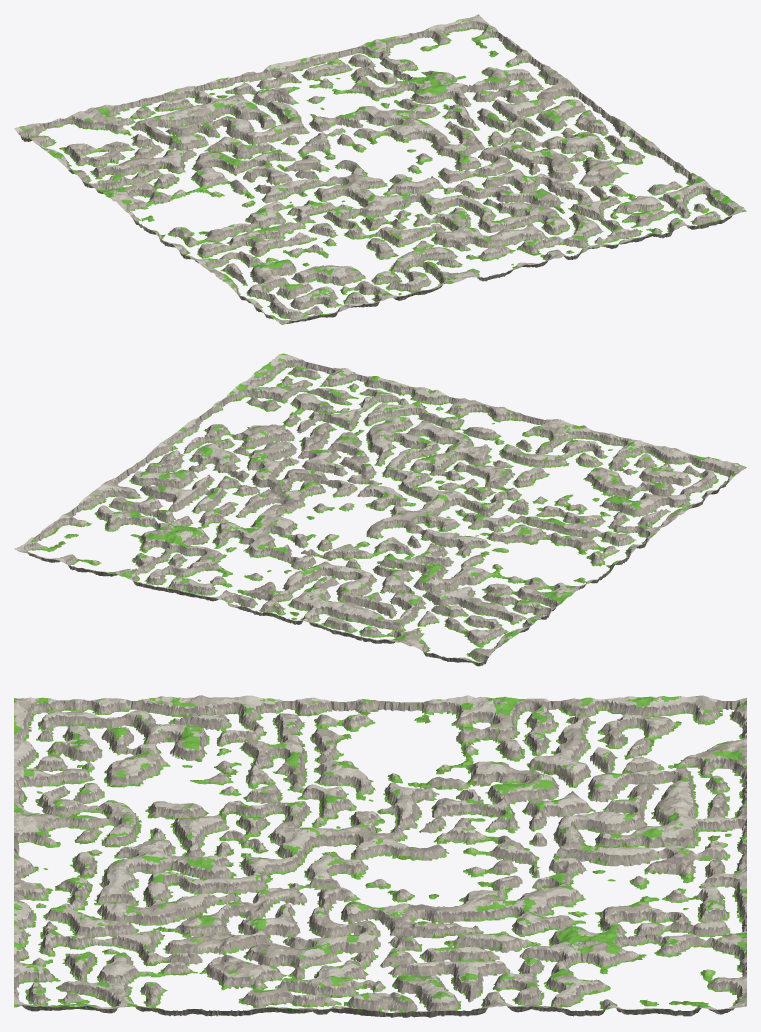
The model's file is Dungeon-2C-Relief.fbx.
3 views of the same model, one above another, from view 1: azimuth 30°, elevation 25°; view 2: azimuth 150°, elevation 25°; view 3: azimuth 270°, elevation 25° (orthographic). The views are drawn at different scales.
Parts seen in each view (by area): view 1: Dungeon-2C-Relief-c27, Dungeon-2C-Relief-c75, Dungeon-2C-Relief-c31, Dungeon-2C-Relief-c41, Dungeon-2C-Relief-c74, Dungeon-2C-Relief-c37, Dungeon-2C-Relief-c47, Dungeon-2C-Relief-c63, Dungeon-2C-Relief-c45, Dungeon-2C-Relief-c26, Dungeon-2C-Relief-c17, Dungeon-2C-Relief-c62 (+50 smaller); view 2: Dungeon-2C-Relief-c10, Dungeon-2C-Relief-c20, Dungeon-2C-Relief-c75, Dungeon-2C-Relief-c63, Dungeon-2C-Relief-c70, Dungeon-2C-Relief-c60, Dungeon-2C-Relief-c16, Dungeon-2C-Relief-c00, Dungeon-2C-Relief-c41, Dungeon-2C-Relief-c33, Dungeon-2C-Relief-c26, Dungeon-2C-Relief-c50 (+49 smaller); view 3: Dungeon-2C-Relief-c36, Dungeon-2C-Relief-c01, Dungeon-2C-Relief-c02, Dungeon-2C-Relief-c05, Dungeon-2C-Relief-c51, Dungeon-2C-Relief-c06, Dungeon-2C-Relief-c73, Dungeon-2C-Relief-c74, Dungeon-2C-Relief-c42, Dungeon-2C-Relief-c00, Dungeon-2C-Relief-c41, Dungeon-2C-Relief-c37 (+51 smaller).
Boxes of the visible parts, bbox=[...] form: Dungeon-2C-Relief-c27: bbox=[130, 86, 219, 131]; Dungeon-2C-Relief-c75: bbox=[488, 65, 579, 103]; Dungeon-2C-Relief-c31: bbox=[390, 223, 470, 261]; Dungeon-2C-Relief-c41: bbox=[447, 207, 538, 248]; Dungeon-2C-Relief-c74: bbox=[522, 91, 612, 133]; Dungeon-2C-Relief-c37: bbox=[188, 72, 274, 116]; Dungeon-2C-Relief-c47: bbox=[247, 58, 336, 103]; Dungeon-2C-Relief-c63: bbox=[501, 136, 586, 173]; Dungeon-2C-Relief-c45: bbox=[314, 107, 404, 150]; Dungeon-2C-Relief-c26: bbox=[166, 116, 255, 155]; Dungeon-2C-Relief-c17: bbox=[72, 102, 156, 139]; Dungeon-2C-Relief-c62: bbox=[530, 157, 615, 197]; Dungeon-2C-Relief-c10: bbox=[608, 439, 688, 482]; Dungeon-2C-Relief-c20: bbox=[539, 424, 630, 467]; Dungeon-2C-Relief-c75: bbox=[81, 478, 172, 516]; Dungeon-2C-Relief-c63: bbox=[212, 447, 297, 487]; Dungeon-2C-Relief-c70: bbox=[249, 353, 339, 395]; Dungeon-2C-Relief-c60: bbox=[307, 368, 397, 412]; Dungeon-2C-Relief-c16: bbox=[402, 591, 485, 630]; Dungeon-2C-Relief-c00: bbox=[658, 454, 746, 495]; Dungeon-2C-Relief-c41: bbox=[390, 422, 473, 465]; Dungeon-2C-Relief-c33: bbox=[389, 486, 470, 529]; Dungeon-2C-Relief-c26: bbox=[341, 573, 425, 617]; Dungeon-2C-Relief-c50: bbox=[373, 382, 455, 425]; Dungeon-2C-Relief-c36: bbox=[563, 812, 656, 863]; Dungeon-2C-Relief-c01: bbox=[104, 696, 197, 746]; Dungeon-2C-Relief-c02: bbox=[196, 695, 290, 746]; Dungeon-2C-Relief-c05: bbox=[470, 696, 564, 746]; Dungeon-2C-Relief-c51: bbox=[104, 892, 197, 940]; Dungeon-2C-Relief-c06: bbox=[563, 696, 656, 746]; Dungeon-2C-Relief-c73: bbox=[287, 968, 380, 1016]; Dungeon-2C-Relief-c74: bbox=[380, 967, 472, 1017]; Dungeon-2C-Relief-c42: bbox=[196, 855, 290, 902]; Dungeon-2C-Relief-c00: bbox=[14, 697, 106, 741]; Dungeon-2C-Relief-c41: bbox=[104, 851, 197, 901]; Dungeon-2C-Relief-c37: bbox=[654, 813, 746, 863].
Bounding box in the file's own units: 132 × 2.82 × 132.
